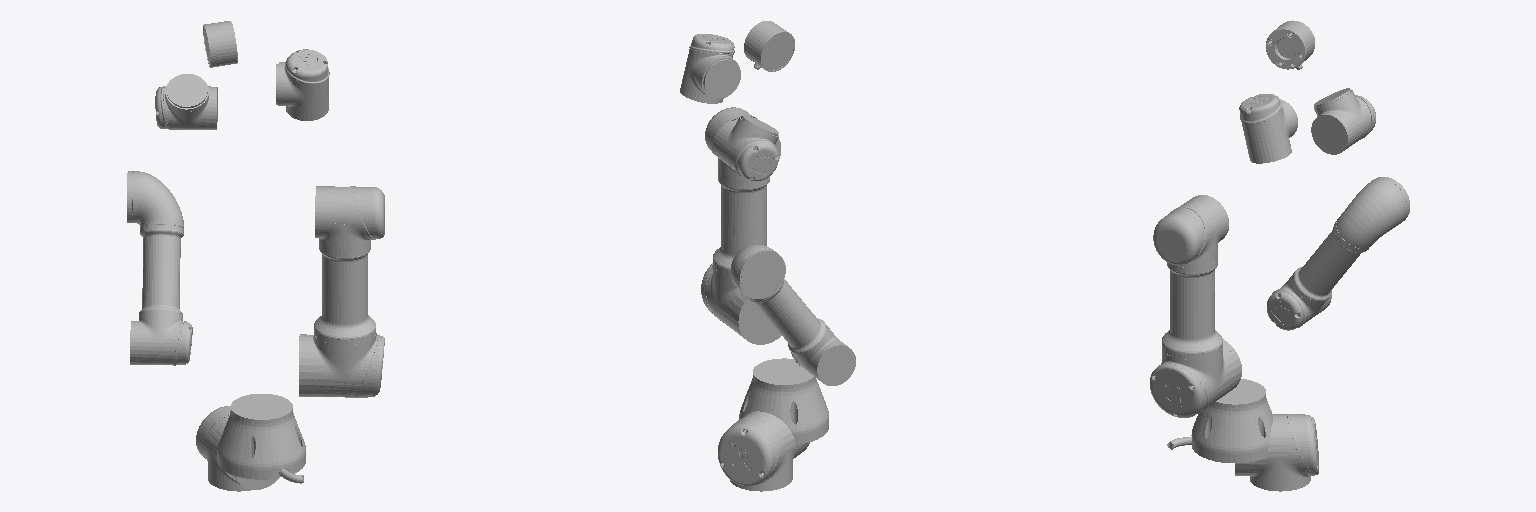
The robot description file, URDF, robot "ur33":
<?xml version="1.0" encoding="utf-8"?>
<!-- This URDF was automatically created by SolidWorks to URDF Exporter! Originally created by [author] ([email redacted]) 
     Commit Version: 1.6.0-4-g7f85cfe  Build Version: 1.6.7995.38578
     For more information, please see http://wiki.ros.org/sw_urdf_exporter -->
<robot
  name="ur33">
  <link
    name="base_link">
    <inertial>
      <origin
        xyz="3.93116168057694E-05 -0.000808491080125994 0.046220310995705"
        rpy="0 0 0" />
      <mass
        value="0.615785283013905" />
      <inertia
        ixx="0.000761300764311582"
        ixy="2.98963200654777E-07"
        ixz="3.53676883539917E-07"
        iyy="0.000774576499049897"
        iyz="-3.46585976118834E-06"
        izz="0.00100294058166069" />
    </inertial>
    <visual>
      <origin
        xyz="0 0 0"
        rpy="0 0 0" />
      <geometry>
        <mesh
          filename="package://ur33/meshes/base_link.STL" />
      </geometry>
      <material
        name="">
        <color
          rgba="0.752941176470588 0.752941176470588 0.752941176470588 1" />
      </material>
    </visual>
    <collision>
      <origin
        xyz="0 0 0"
        rpy="0 0 0" />
      <geometry>
        <mesh
          filename="package://ur33/meshes/base_link.STL" />
      </geometry>
    </collision>
  </link>
  <link
    name="link1">
    <inertial>
      <origin
        xyz="-0.00625089745310523 0.00384444461112433 0.140320421113684"
        rpy="0 0 0" />
      <mass
        value="0.755651972571794" />
      <inertia
        ixx="0.00101180434870827"
        ixy="3.52300925244213E-05"
        ixz="0.000111752432382906"
        iyy="0.00104735230146711"
        iyz="-6.84846356621434E-05"
        izz="0.000906485139777163" />
    </inertial>
    <visual>
      <origin
        xyz="0 0 0"
        rpy="0 0 0" />
      <geometry>
        <mesh
          filename="package://ur33/meshes/link1.STL" />
      </geometry>
      <material
        name="">
        <color
          rgba="0.752941176470588 0.752941176470588 0.752941176470588 1" />
      </material>
    </visual>
    <collision>
      <origin
        xyz="0 0 0"
        rpy="0 0 0" />
      <geometry>
        <mesh
          filename="package://ur33/meshes/link1.STL" />
      </geometry>
    </collision>
  </link>
  <joint
    name="joint1"
    type="continuous">
    <origin
      xyz="0 0 0"
      rpy="0 0 0" />
    <parent
      link="base_link" />
    <child
      link="link1" />
    <axis
      xyz="0 0 -1" />
    <limit
      lower="-3.14"
      upper="3.14"
      effort="100"
      velocity="2" />
  </joint>
  <link
    name="link2">
    <inertial>
      <origin
        xyz="-0.0614610231996296 0.0860061627704666 0.116589773897471"
        rpy="0 0 0" />
      <mass
        value="1.80164817391607" />
      <inertia
        ixx="0.0023186116671055"
        ixy="0.000463522536300758"
        ixz="4.72188440614429E-05"
        iyy="0.0020010695774144"
        iyz="-6.59248325584966E-05"
        izz="0.0025172679877967" />
    </inertial>
    <visual>
      <origin
        xyz="0 0 0"
        rpy="0 0 0" />
      <geometry>
        <mesh
          filename="package://ur33/meshes/link2.STL" />
      </geometry>
      <material
        name="">
        <color
          rgba="0.752941176470588 0.752941176470588 0.752941176470588 1" />
      </material>
    </visual>
    <collision>
      <origin
        xyz="0 0 0"
        rpy="0 0 0" />
      <geometry>
        <mesh
          filename="package://ur33/meshes/link2.STL" />
      </geometry>
    </collision>
  </link>
  <joint
    name="joint2"
    type="continuous">
    <origin
      xyz="0 0 0.1519"
      rpy="1.5708 0 -2.1213" />
    <parent
      link="link1" />
    <child
      link="link2" />
    <axis
      xyz="0 0 -1" />
    <limit
      lower="-3.14"
      upper="3.14"
      effort="100"
      velocity="2" />
  </joint>
  <link
    name="link3">
    <inertial>
      <origin
        xyz="0.0848721525553792 -0.0718523582365145 0.0880667755483855"
        rpy="0 0 0" />
      <mass
        value="0.962318952715275" />
      <inertia
        ixx="0.000763928216708484"
        ixy="0.000261390958396011"
        ixz="-3.51942093732436E-05"
        iyy="0.000851454207568593"
        iyz="2.97876397293877E-05"
        izz="0.00101486278864245" />
    </inertial>
    <visual>
      <origin
        xyz="0 0 0"
        rpy="0 0 0" />
      <geometry>
        <mesh
          filename="package://ur33/meshes/link3.STL" />
      </geometry>
      <material
        name="">
        <color
          rgba="0.752941176470588 0.752941176470588 0.752941176470588 1" />
      </material>
    </visual>
    <collision>
      <origin
        xyz="0 0 0"
        rpy="0 0 0" />
      <geometry>
        <mesh
          filename="package://ur33/meshes/link3.STL" />
      </geometry>
    </collision>
  </link>
  <joint
    name="joint3"
    type="continuous">
    <origin
      xyz="-0.14167 0.19823 0.11985"
      rpy="3.1416 0 0.6205" />
    <parent
      link="link2" />
    <child
      link="link3" />
    <axis
      xyz="0 0 1" />
    <limit
      lower="-3.14"
      upper="3.14"
      effort="100"
      velocity="2" />
  </joint>
  <link
    name="link4">
    <inertial>
      <origin
        xyz="0.000131209888373479 0.000500927513799487 0.0774753212040768"
        rpy="0 0 0" />
      <mass
        value="0.325313468041478" />
      <inertia
        ixx="0.000224305930807925"
        ixy="-6.96758128022657E-06"
        ixz="4.88606687222132E-06"
        iyy="0.000201017702186723"
        iyz="1.76869754838883E-05"
        izz="0.000194599789764272" />
    </inertial>
    <visual>
      <origin
        xyz="0 0 0"
        rpy="0 0 0" />
      <geometry>
        <mesh
          filename="package://ur33/meshes/link4.STL" />
      </geometry>
      <material
        name="">
        <color
          rgba="0.752941176470588 0.752941176470588 0.752941176470588 1" />
      </material>
    </visual>
    <collision>
      <origin
        xyz="0 0 0"
        rpy="0 0 0" />
      <geometry>
        <mesh
          filename="package://ur33/meshes/link4.STL" />
      </geometry>
    </collision>
  </link>
  <joint
    name="joint4"
    type="continuous">
    <origin
      xyz="0.16257 -0.13762 0.093211"
      rpy="3.1416 0 -2.2733" />
    <parent
      link="link3" />
    <child
      link="link4" />
    <axis
      xyz="0 0 1" />
    <limit
      lower="-3.14"
      upper="3.14"
      effort="100"
      velocity="2" />
  </joint>
  <link
    name="link5">
    <inertial>
      <origin
        xyz="0.000112522115200631 -0.0774757537365017 -0.000505090488728377"
        rpy="0 0 0" />
      <mass
        value="0.325304141773555" />
      <inertia
        ixx="0.000225095056299192"
        ixy="-3.76400572536212E-06"
        ixz="5.44701372646168E-06"
        iyy="0.000194601314147715"
        iyz="1.79591798255415E-05"
        izz="0.000200244518504051" />
    </inertial>
    <visual>
      <origin
        xyz="0 0 0"
        rpy="0 0 0" />
      <geometry>
        <mesh
          filename="package://ur33/meshes/link5.STL" />
      </geometry>
      <material
        name="">
        <color
          rgba="0.752941176470588 0.752941176470588 0.752941176470588 1" />
      </material>
    </visual>
    <collision>
      <origin
        xyz="0 0 0"
        rpy="0 0 0" />
      <geometry>
        <mesh
          filename="package://ur33/meshes/link5.STL" />
      </geometry>
    </collision>
  </link>
  <joint
    name="joint5"
    type="continuous">
    <origin
      xyz="0 0 0.0834"
      rpy="0 0 -0.26969" />
    <parent
      link="link4" />
    <child
      link="link5" />
    <axis
      xyz="0 -1 0" />
    <limit
      lower="-3.14"
      upper="3.14"
      effort="100"
      velocity="2" />
  </joint>
  <link
    name="link6">
    <inertial>
      <origin
        xyz="3.75217964138641E-05 -9.6258702699914E-05 0.0619729046967783"
        rpy="0 0 0" />
      <mass
        value="0.115355209052266" />
      <inertia
        ixx="4.24968269717473E-05"
        ixy="-7.19665046883362E-08"
        ixz="-3.74817081762432E-08"
        iyy="4.26533940599609E-05"
        iyz="9.61768604574672E-08"
        izz="5.90666201317261E-05" />
    </inertial>
    <visual>
      <origin
        xyz="0 0 0"
        rpy="0 0 0" />
      <geometry>
        <mesh
          filename="package://ur33/meshes/link6.STL" />
      </geometry>
      <material
        name="">
        <color
          rgba="0.752941176470588 0.752941176470588 0.752941176470588 1" />
      </material>
    </visual>
    <collision>
      <origin
        xyz="0 0 0"
        rpy="0 0 0" />
      <geometry>
        <mesh
          filename="package://ur33/meshes/link6.STL" />
      </geometry>
    </collision>
  </link>
  <joint
    name="joint6"
    type="continuous">
    <origin
      xyz="0 -0.0834 0"
      rpy="0 -0.20651 0" />
    <parent
      link="link5" />
    <child
      link="link6" />
    <axis
      xyz="0 0 1" />
    <limit
      lower="-3.14"
      upper="3.14"
      effort="100"
      velocity="2" />
  </joint>
</robot>

--- What the picture shows (computed from the rendered views, not written in the file) ---
3 views of the same robot in one strip: view 1: azimuth 30°, elevation 25°; view 2: azimuth 150°, elevation 25°; view 3: azimuth 270°, elevation 25° (orthographic).
Robot: ur33 — 7 links, 6 joints (6 continuous); root link base_link; default pose: every joint at zero.
Links seen in each view (by area): view 1: link2, link3, base_link, link4, link5, link1, link6; view 2: link2, link3, link1, base_link, link4, link5, link6; view 3: link2, link3, base_link, link1, link4, link5, link6.
Boxes of the visible links, box(x1,y1,x2,y2) form: link2: box(299, 186, 384, 397); link3: box(127, 171, 192, 365); base_link: box(217, 394, 305, 483); link4: box(276, 49, 329, 120); link5: box(155, 74, 217, 129); link1: box(196, 406, 284, 491); link6: box(203, 21, 237, 67); link2: box(701, 107, 781, 344); link3: box(730, 244, 855, 385); link1: box(718, 411, 809, 491); base_link: box(739, 358, 828, 444); link4: box(680, 34, 740, 103); link5: box(713, 115, 778, 181); link6: box(744, 21, 794, 71); link2: box(1150, 195, 1241, 417); link3: box(1267, 177, 1409, 330); base_link: box(1167, 379, 1272, 462); link1: box(1235, 414, 1318, 491); link4: box(1239, 94, 1297, 163); link5: box(1311, 88, 1375, 154); link6: box(1266, 20, 1314, 69).
Size in the robot's own frame: 0.336 by 0.3809 by 0.7214 metres.
Meshes: 7 distinct files referenced, 7 mesh visuals loaded (7 binary STL).
